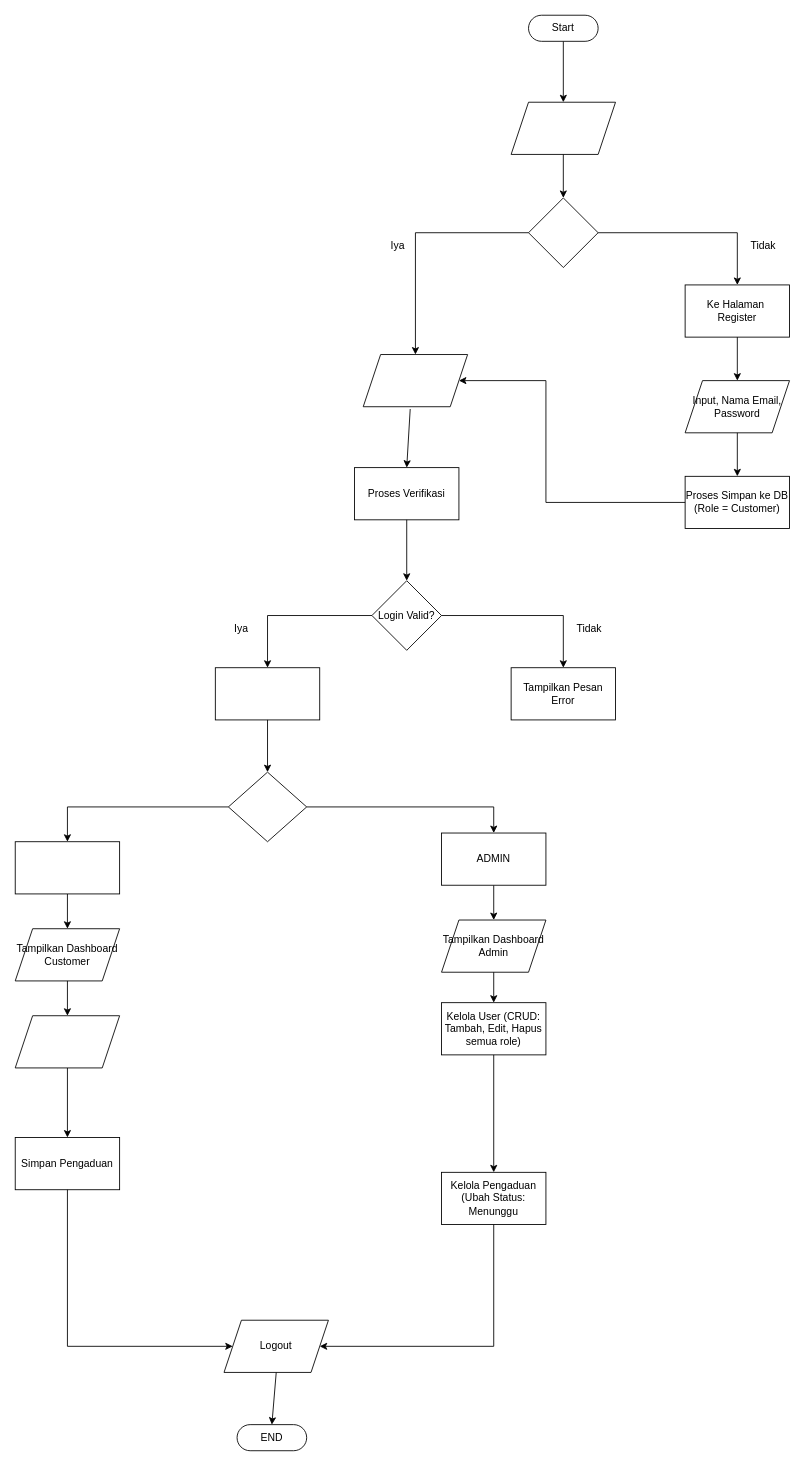
Image size: 805x1466. Some labels were removed from this diagram. Here are the shapes that lost their labels. From the top down, the centre of each, then its label:
the point at 563,127: Tampilkan Halaman Login
the point at 563,232: Punya Akun?
the point at 415,380: Input Email & Password
the point at 267,693: Buat Session Login
the point at 267,806: Cek Role User
the point at 67,867: CUSTOMER
the point at 67,1041: Input Pengaduan Baru + Upload Foto
